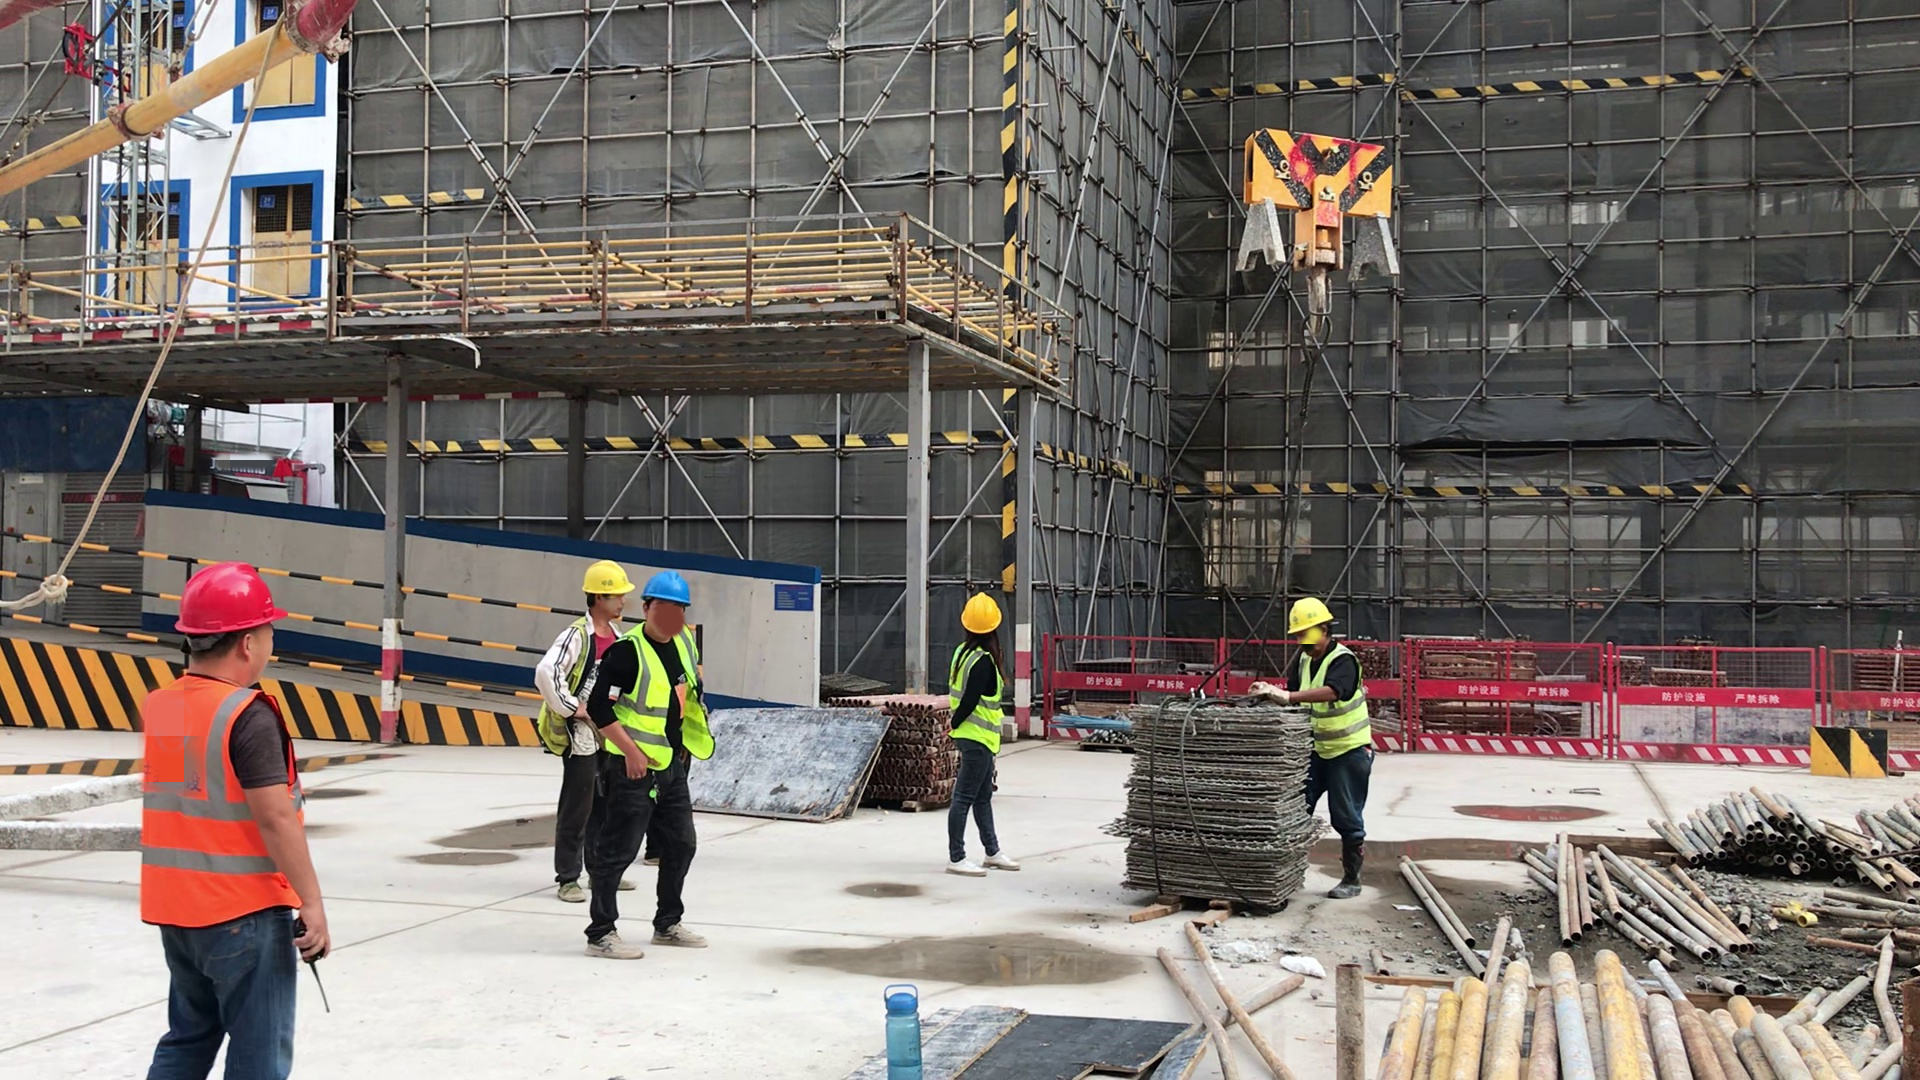fence: (1048, 634, 1920, 776)
helmet: (173, 551, 290, 634), (959, 587, 1002, 633), (582, 557, 632, 596), (1288, 595, 1331, 635), (642, 569, 690, 604)
hook: (1228, 129, 1400, 342)
person: (139, 561, 332, 1080), (586, 572, 711, 957), (1248, 595, 1377, 898), (534, 560, 638, 902), (943, 594, 1017, 879)
scaffold: (1121, 703, 1308, 908), (882, 697, 950, 814)
vest: (142, 676, 302, 930), (600, 622, 712, 773), (1296, 641, 1373, 756), (948, 641, 1004, 753)
